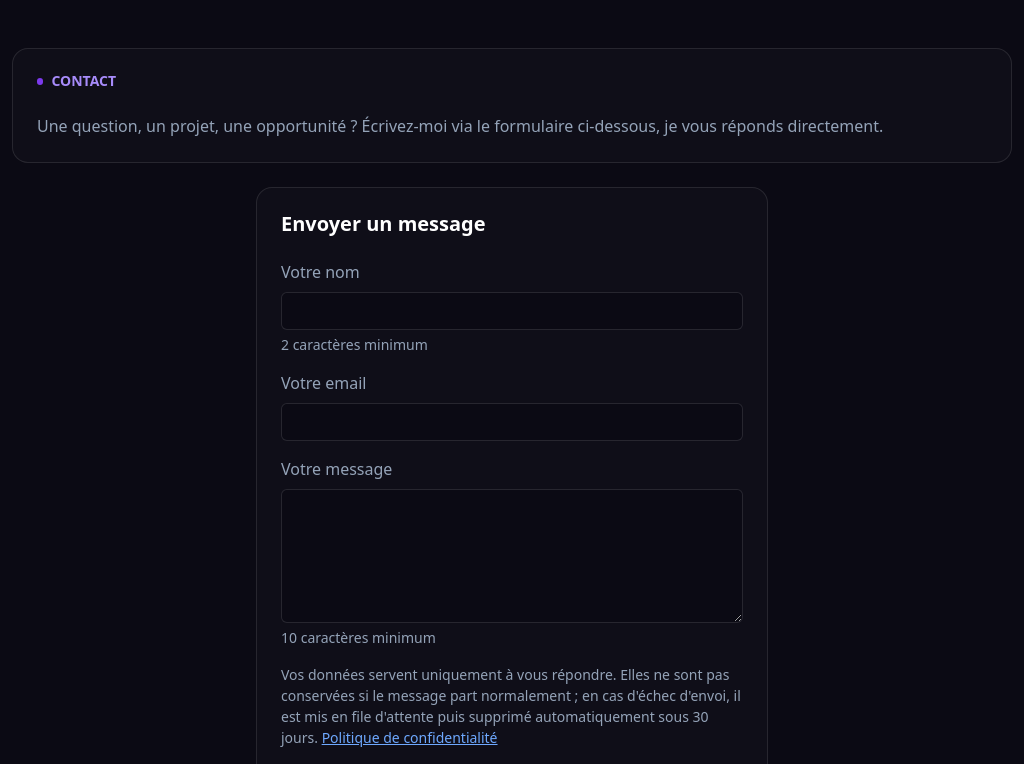
Test: ContactPage › affiche un message d'erreur générique si l'envoi échoue, sans exposer le détail technique
This screenshot has width=1024, height=764.
Type "Jane Doe" into the field with id "contact-name" at coordinates (512, 311), box [281, 292, 743, 330]
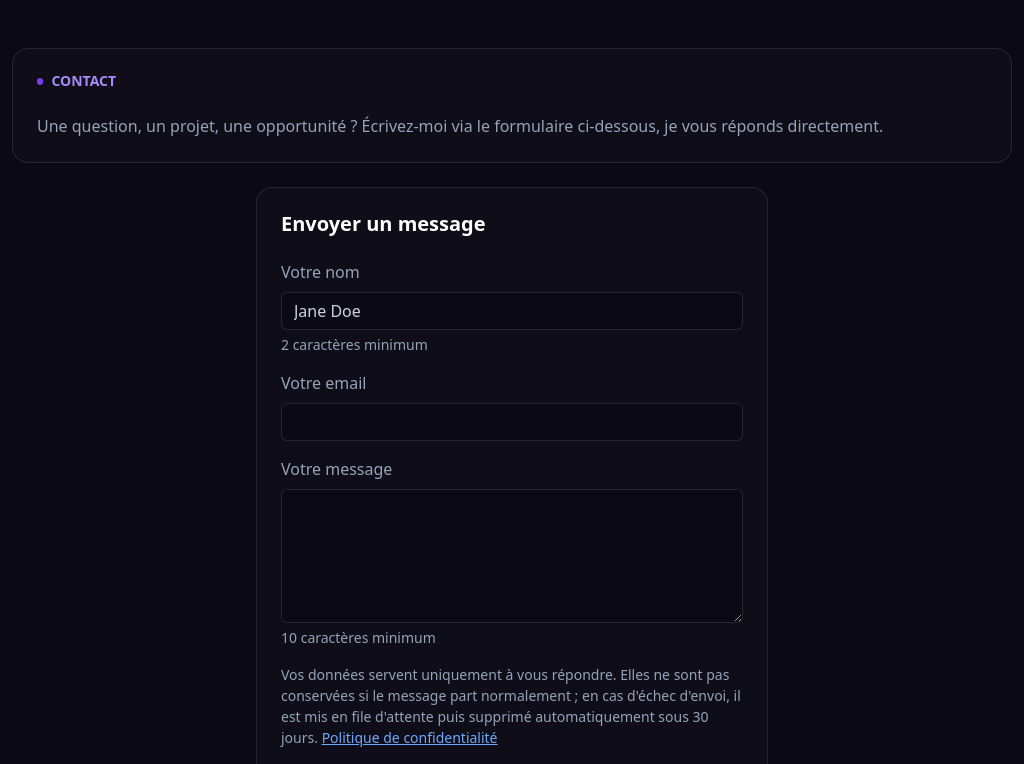
Type "jane@example.com" into the field with id "contact-email" at coordinates (512, 422), box [281, 403, 743, 441]
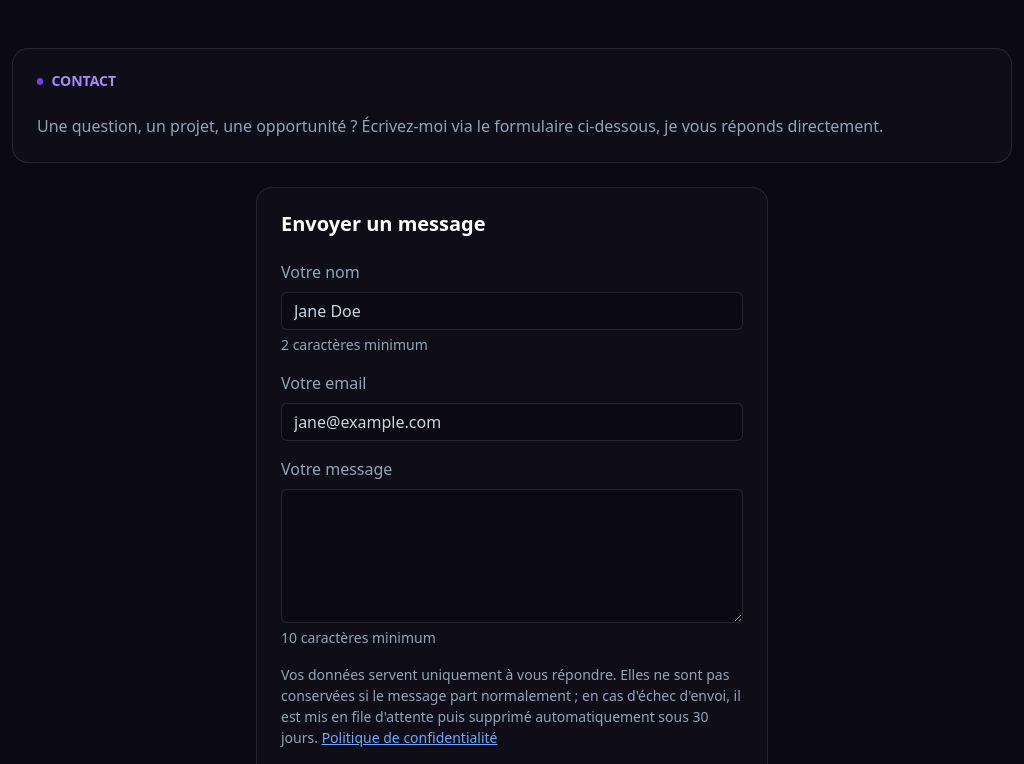
Type "Bonjour, je vous contacte au sujet de..." into the text box with id "contact-message" at coordinates (512, 556), box [281, 489, 743, 623]
(page scrolled)
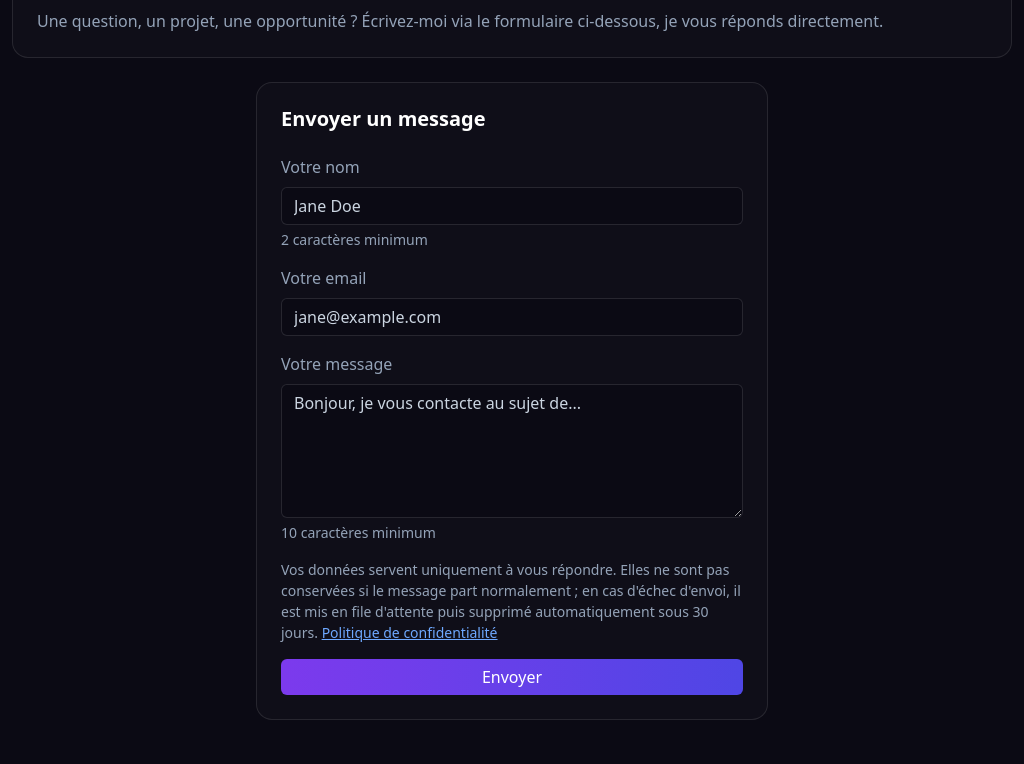
Submit the form, box [281, 155, 743, 695]
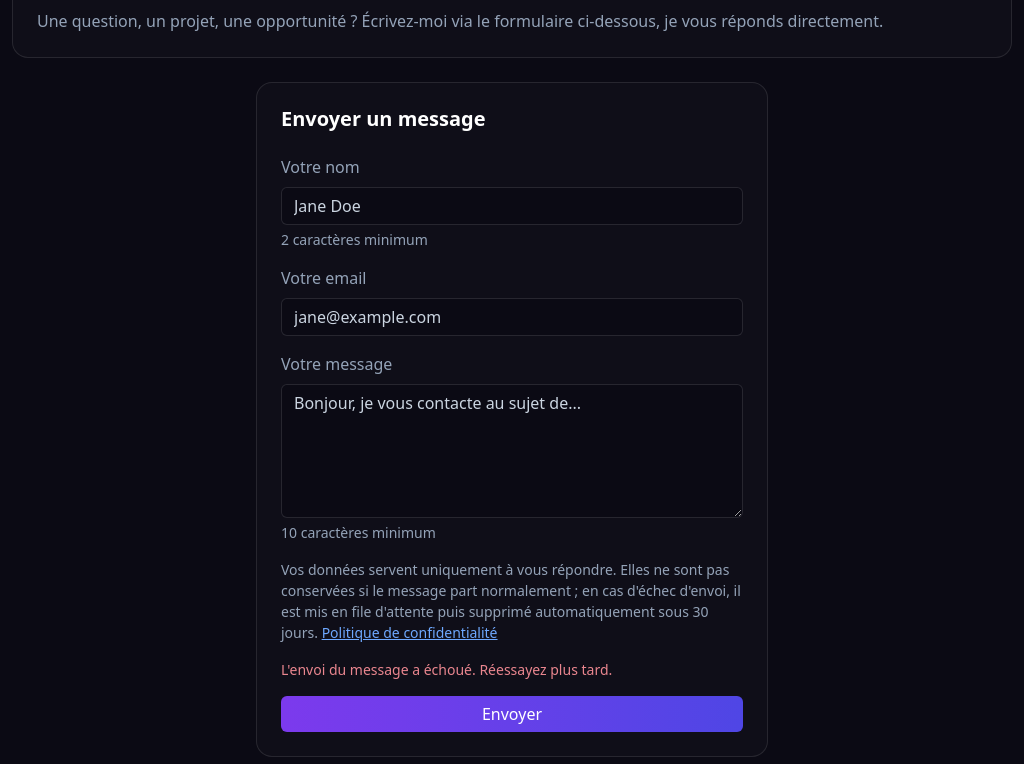
Result: the message "L'envoi du message a échoué. Réessayez plus tard." is shown at [281, 660, 612, 679]
